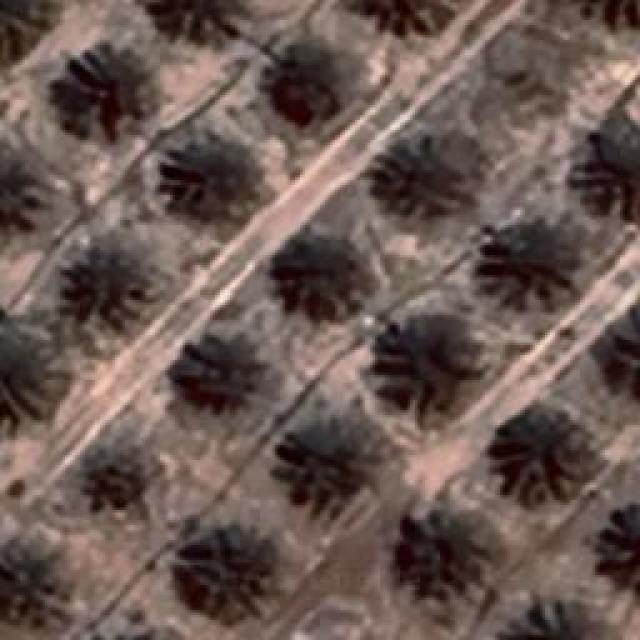PalmTree: (32, 13, 605, 68), (174, 518, 276, 620), (269, 236, 369, 332), (484, 210, 578, 308), (388, 316, 480, 414), (488, 408, 582, 502), (0, 530, 80, 640), (570, 110, 640, 223), (64, 254, 158, 338), (0, 300, 58, 435), (406, 509, 492, 599), (285, 417, 370, 505), (182, 335, 266, 423), (66, 54, 146, 132), (379, 130, 459, 208), (171, 136, 244, 216), (589, 297, 640, 409), (270, 41, 340, 119), (140, 0, 246, 50), (500, 595, 632, 635), (0, 136, 43, 244), (340, 0, 453, 40), (86, 444, 146, 508), (605, 504, 640, 596)
